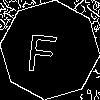F: (25, 25, 60, 73)
